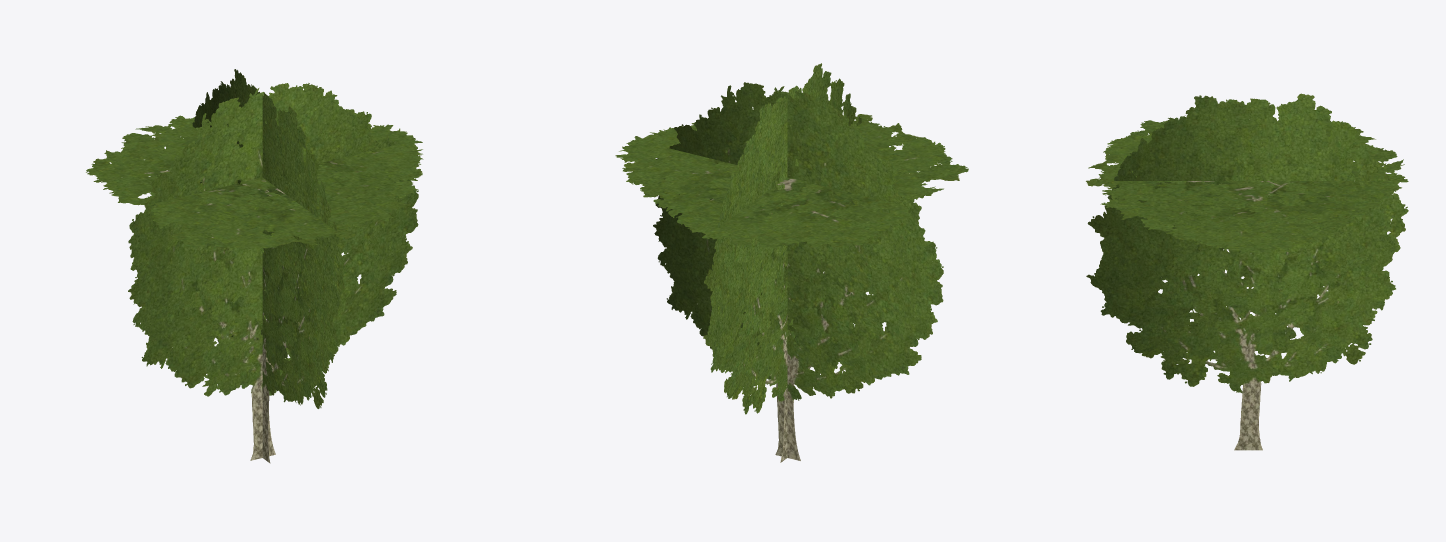
Rendered from arbre_platane_lod2.glb.
The picture shows the model from 3 angles, left to right: view 1: azimuth 30°, elevation 25°; view 2: azimuth 150°, elevation 25°; view 3: azimuth 270°, elevation 25°; orthographic projection. The views are drawn at different scales.
Visible parts, largest first — view 1: arbre_platane_lod2; view 2: arbre_platane_lod2; view 3: arbre_platane_lod2.
Boxes of the visible parts, x1,y1,x2,y2 form: arbre_platane_lod2: (86,69,423,463); arbre_platane_lod2: (615,63,968,462); arbre_platane_lod2: (1086,93,1408,450).
Bounding box in the file's own units: 13.96 × 15.05 × 13.96.
Materials: 1 (1 with a texture image).
